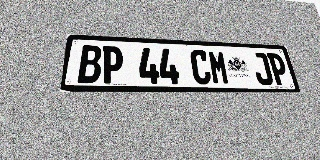4: (158, 48, 180, 84), (139, 47, 160, 84)
B: (77, 45, 102, 83)
C: (190, 50, 212, 84)
J: (251, 52, 274, 85)
M: (207, 50, 230, 85)
P: (101, 46, 123, 83), (266, 53, 290, 85)
